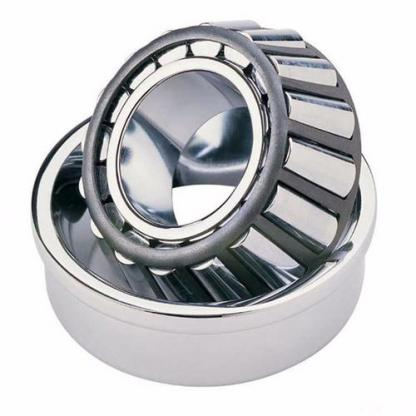FOD: (33, 21, 383, 396)
